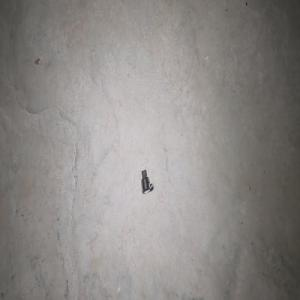MetalPart: (140, 168, 153, 194)
